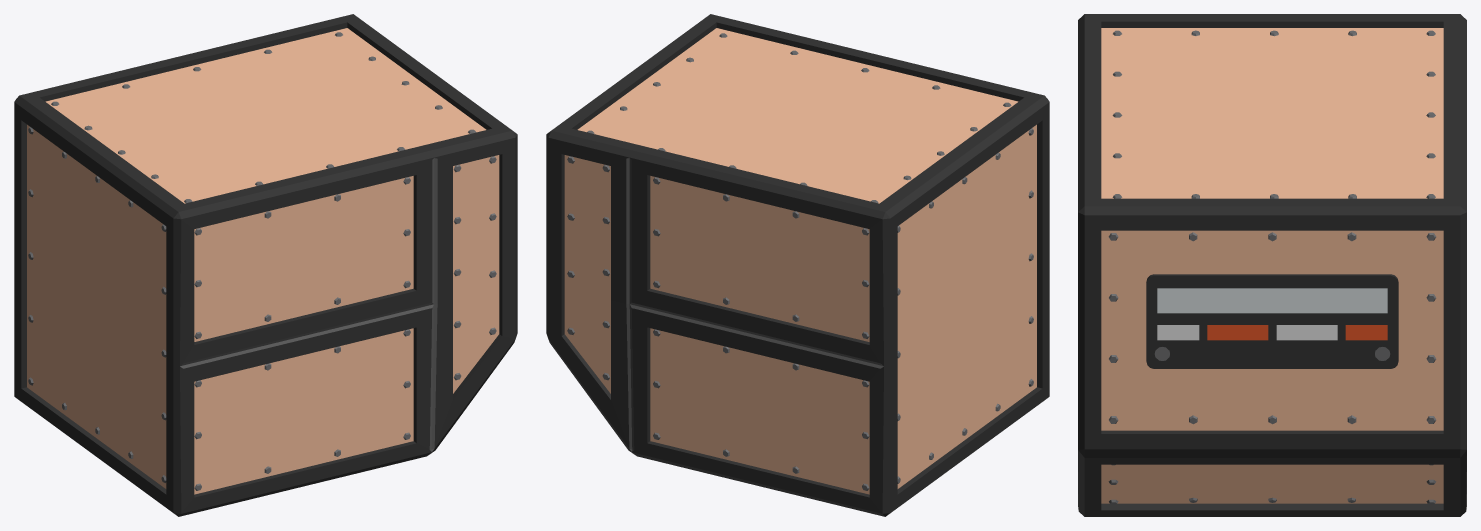
File: airport-cargo-container-4.glb
3 renders of one model, left to right at view 1: azimuth 30°, elevation 25°; view 2: azimuth 150°, elevation 25°; view 3: azimuth 270°, elevation 25°, orthographic. The views are drawn at different scales.
Visible parts, largest first — view 1: 05.Container4_AIRPORT_0; view 2: 05.Container4_AIRPORT_0; view 3: 05.Container4_AIRPORT_0.
Boxes of the visible parts, x1,y1,x2,y2 form: 05.Container4_AIRPORT_0: [14, 14, 517, 516]; 05.Container4_AIRPORT_0: [546, 14, 1049, 516]; 05.Container4_AIRPORT_0: [1078, 14, 1466, 516].
Bounding box in the file's own units: 4.48 × 3.79 × 3.72.
1 material, 1 textured.
